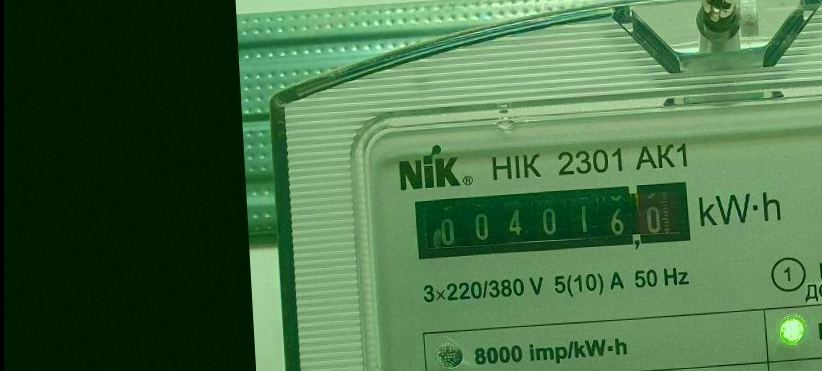0: (539, 203, 561, 239), (437, 213, 460, 247), (472, 208, 493, 243), (643, 202, 664, 235)
1: (576, 200, 593, 235)
4: (506, 204, 525, 239)
6: (607, 203, 627, 236)
screen: (408, 174, 700, 267)
